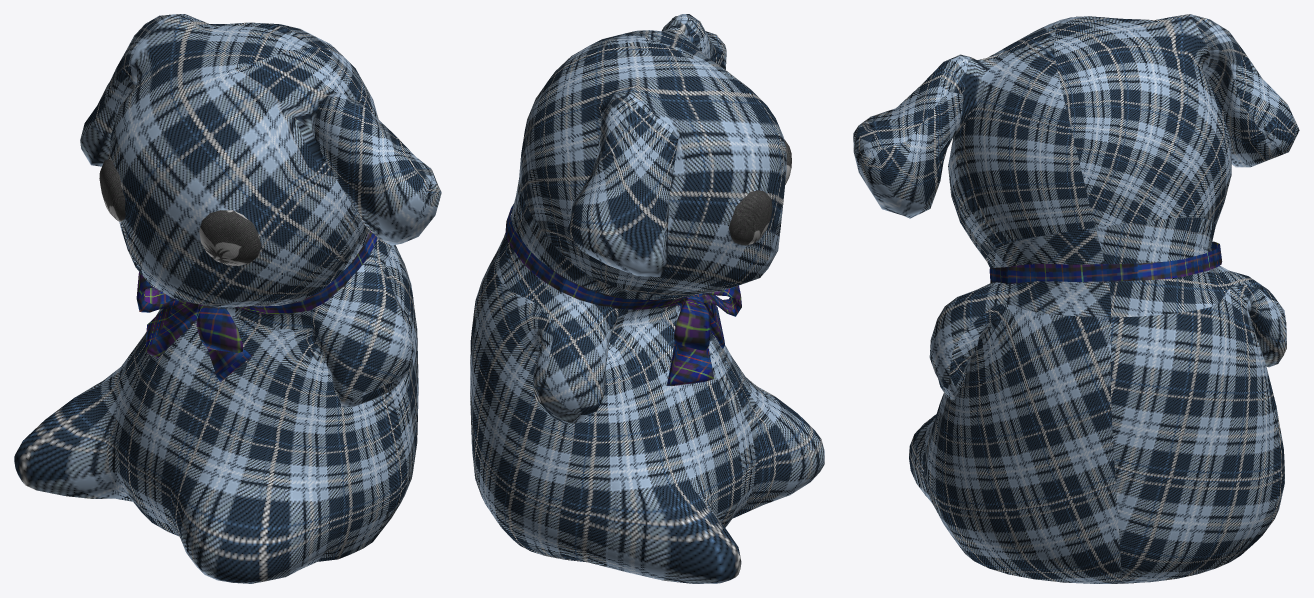
The model's file is SM_Stuffed_Toys.fbx.
The picture shows the model from 3 angles, left to right: view 1: azimuth 30°, elevation 25°; view 2: azimuth 150°, elevation 25°; view 3: azimuth 270°, elevation 25°; orthographic projection. The views are drawn at different scales.
Visible parts, largest first — view 1: SM_Stuffed_Toys; view 2: SM_Stuffed_Toys; view 3: SM_Stuffed_Toys.
Part boxes in pixels (bbox=[...]): SM_Stuffed_Toys: bbox=[14, 14, 441, 583]; SM_Stuffed_Toys: bbox=[470, 14, 824, 583]; SM_Stuffed_Toys: bbox=[853, 14, 1299, 583].
Size of the model in its own units: 39.87 by 46.27 by 57.38.
Materials: 3 (3 with a texture image).
